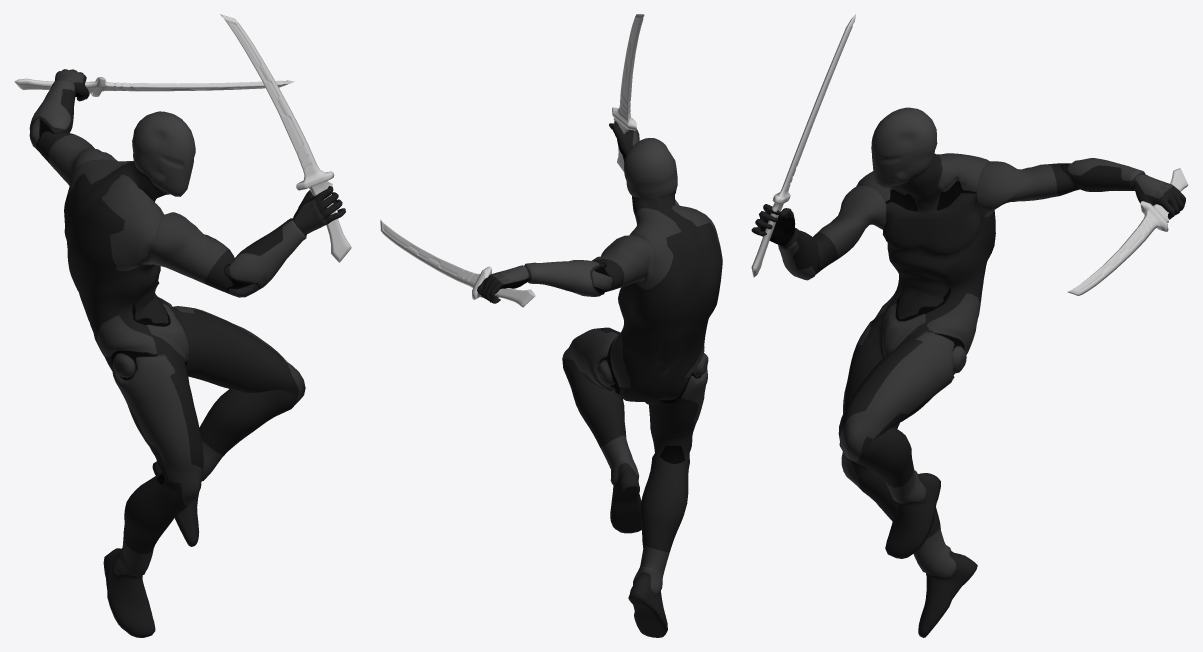
3 renders of one model, left to right at view 1: azimuth 30°, elevation 25°; view 2: azimuth 150°, elevation 25°; view 3: azimuth 270°, elevation 25°, orthographic. The views are drawn at different scales.
Parts seen in each view (by area): view 1: Cyborg_Ninja_Killer, Sword_l001, Sword_l; view 2: Cyborg_Ninja_Killer, Sword_l, Sword_l001; view 3: Cyborg_Ninja_Killer, Sword_l, Sword_l001.
Boxes of the visible parts, x1,y1,x2,y2 form: Cyborg_Ninja_Killer: (29, 69, 345, 637); Sword_l001: (220, 14, 351, 262); Sword_l: (14, 77, 294, 96); Cyborg_Ninja_Killer: (477, 121, 722, 637); Sword_l: (380, 219, 535, 307); Sword_l001: (612, 14, 644, 171); Cyborg_Ninja_Killer: (751, 107, 1185, 637); Sword_l: (1067, 168, 1188, 295); Sword_l001: (751, 14, 855, 277).
Bounding box in the file's own units: 106 × 222 × 137.
